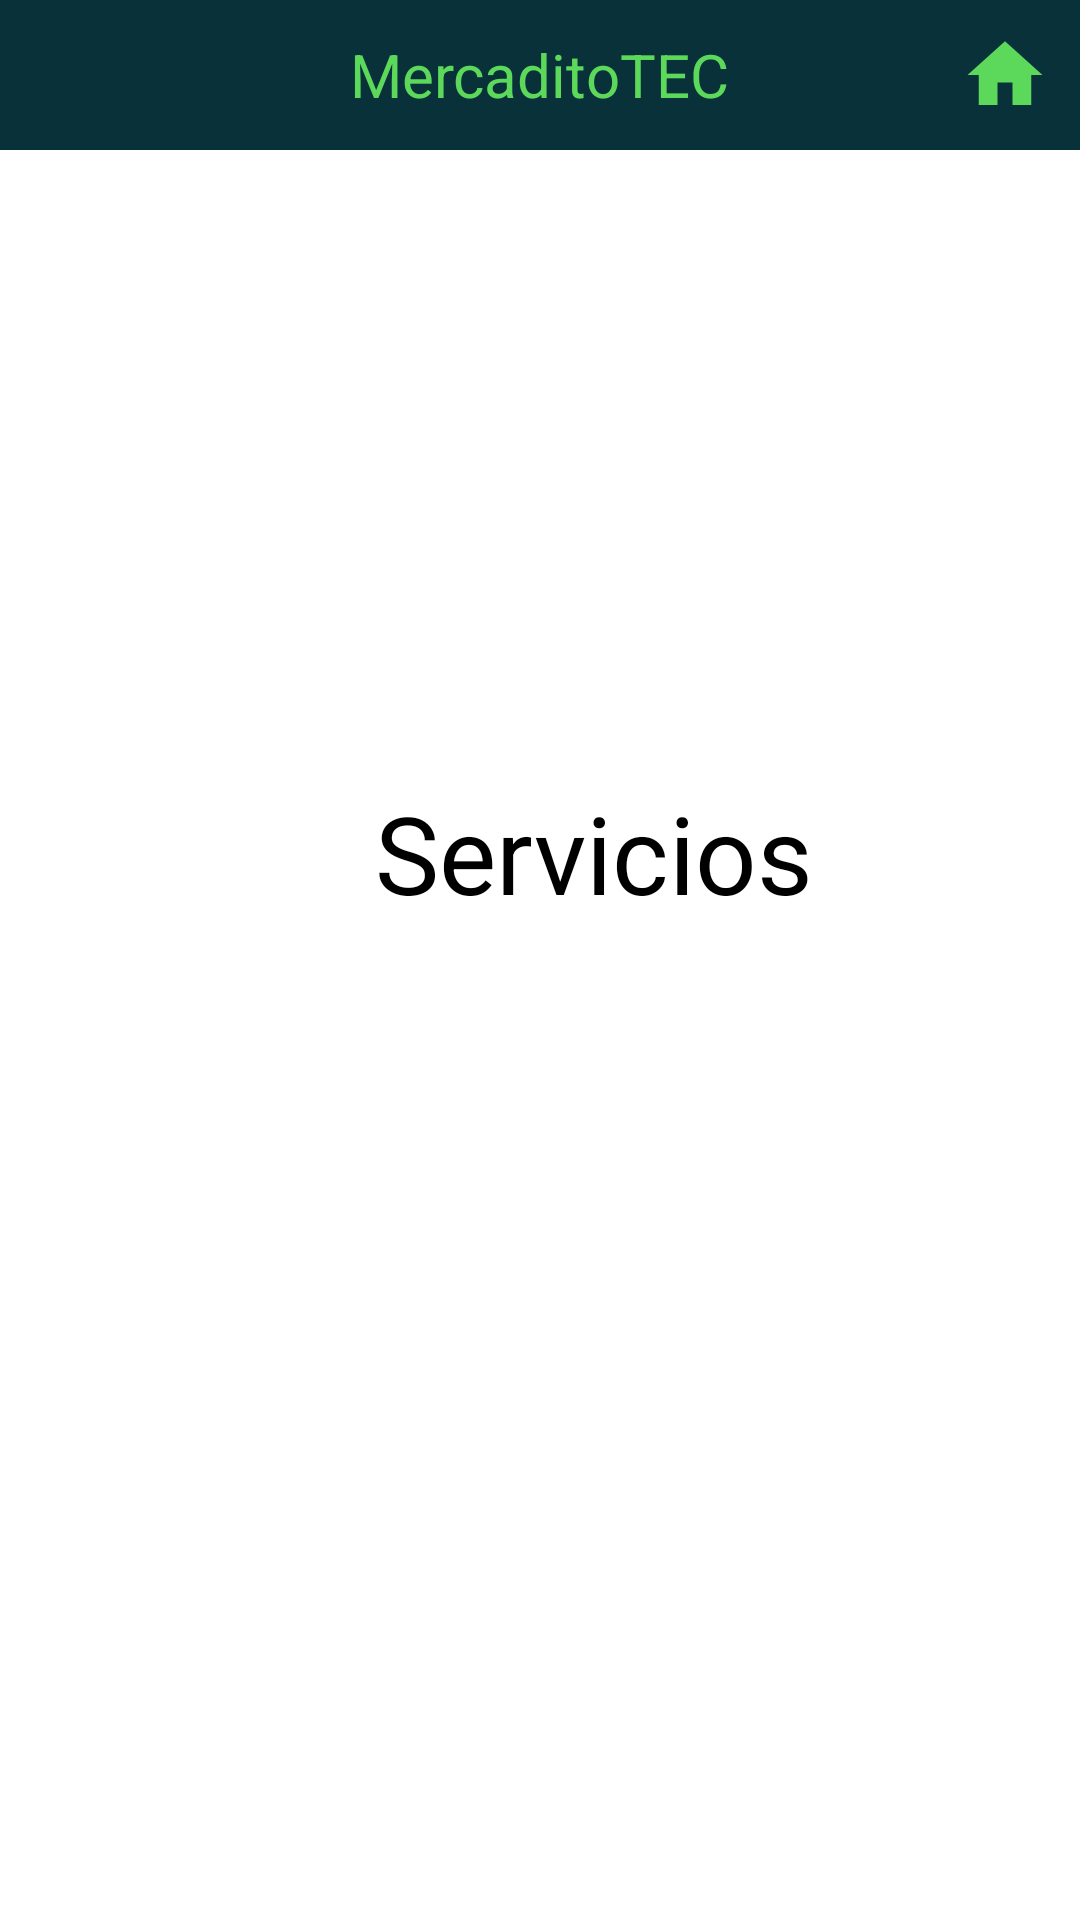

Where icons sit on this 1080*1920 app screen, as (x1, y1, x2, y2):
home: (968, 41, 1042, 105)
